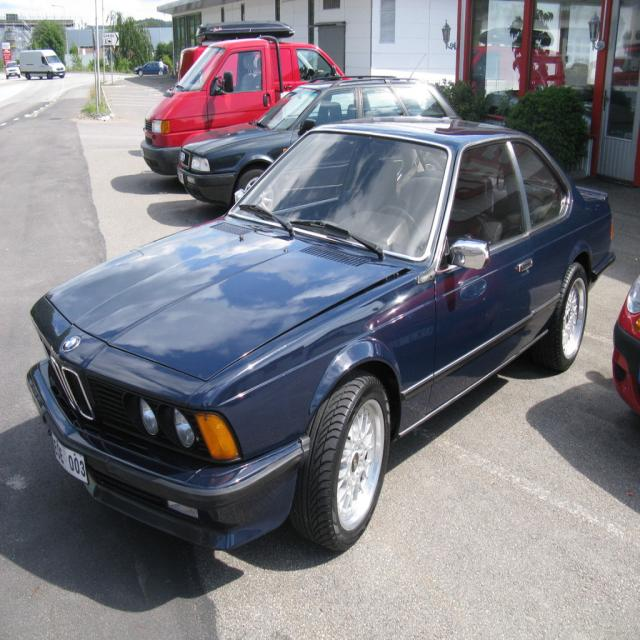car: (32, 88, 601, 562), (177, 80, 454, 215), (133, 59, 170, 74), (2, 59, 17, 78)
